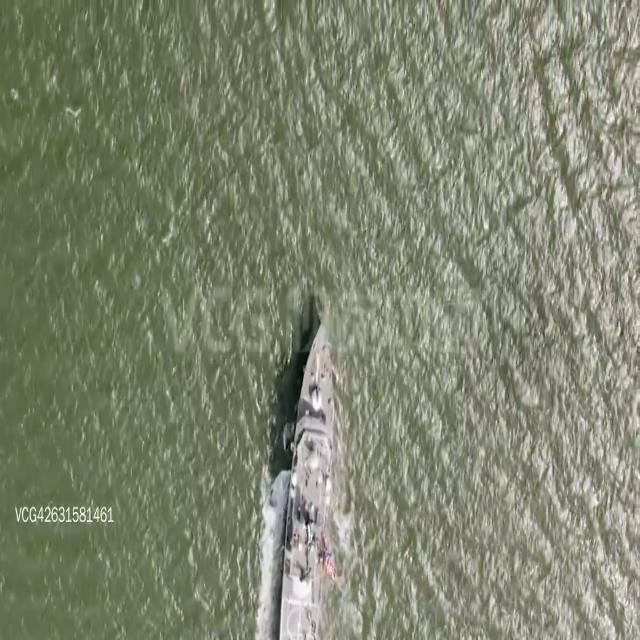navalvessels: (277, 317, 337, 640)
